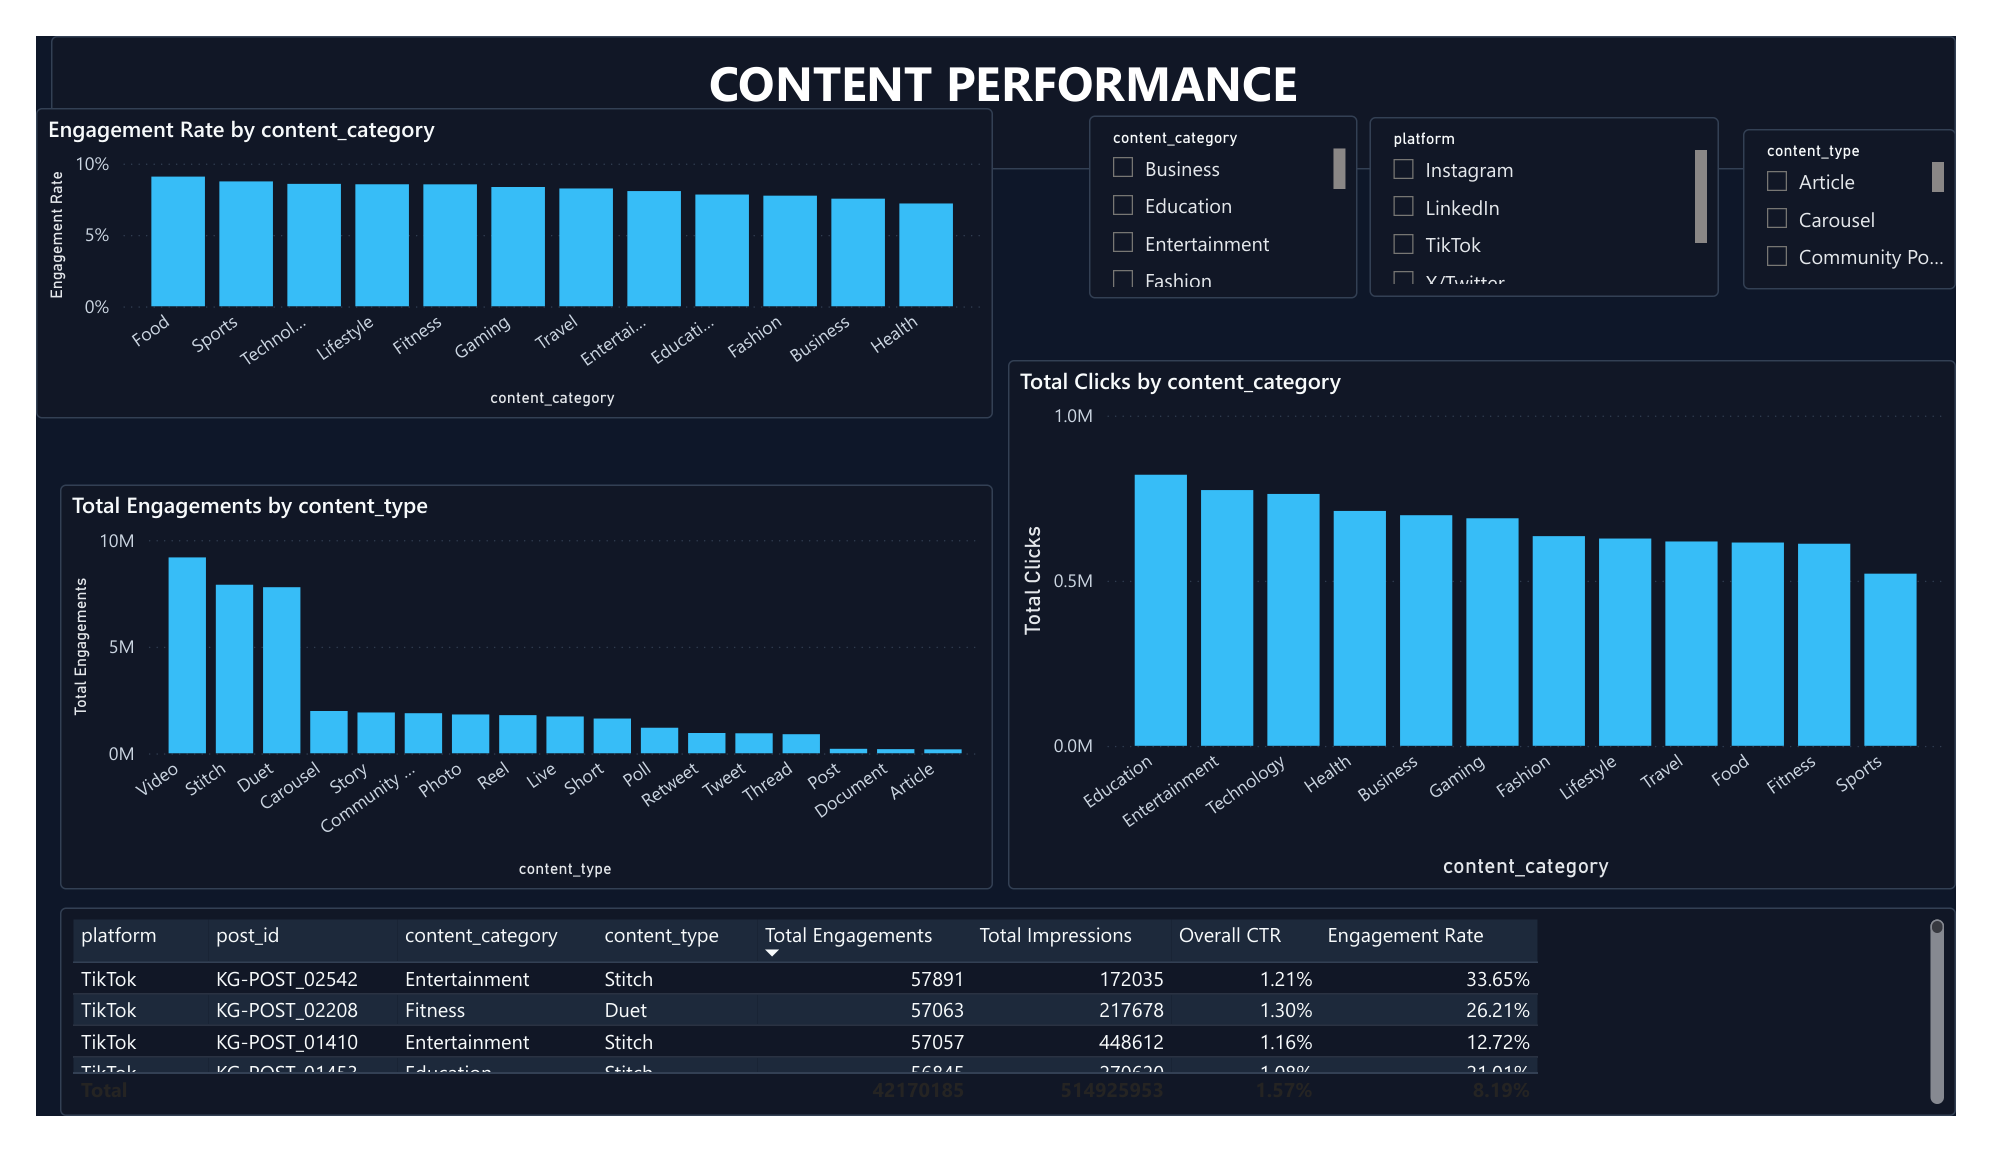

The page's visual inventory and layout, read from the dashboard file:
{"tool":"powerbi","page":{"name":"Content Performance","canvas":[1280,720],"ordinal":1},"visuals":[{"type":"textbox","box":[10,0,1270,88.9],"z":0},{"type":"slicer","fields":{"Values":["posts.platform"]},"box":[889.4,61.2,232.9,120],"z":1000},{"type":"slicer","fields":{"Values":["posts.content_category"]},"box":[702.4,52.9,178.8,122.4],"z":2000},{"type":"slicer","fields":{"Values":["posts.content_type"]},"box":[1122.4,67.1,142.4,108.2],"z":3000},{"type":"clusteredColumnChart","fields":{"Category":["posts.content_category"],"Y":["posts.Engagement Rate"]},"box":[0,48.2,637.6,207.1],"z":4000},{"type":"clusteredColumnChart","fields":{"Category":["posts.content_type"],"Y":["posts.Total Engagements"]},"box":[16.5,298.8,621.2,270.6],"z":5000},{"type":"clusteredColumnChart","fields":{"Category":["posts.content_category"],"Y":["posts.Total Clicks"]},"box":[656.5,181.2,623.5,270.6],"z":6000},{"type":"tableEx","fields":{"Values":["posts.platform","posts.post_id","posts.content_category","posts.content_type","posts.Total Engagements","posts.Total Impressions","posts.Overall CTR","posts.Engagement Rate"]},"box":[16.5,581.2,1263.5,138.8],"z":7000}]}

Visuals, with their boxes in screenshot pixels (x1, y1, x2, y2), scaled from the page's 1280x720 canvas onto the 1992x1152 screenshot:
textbox: (left=16, top=0, right=1991, bottom=142)
slicer - posts.platform: (left=1384, top=98, right=1747, bottom=290)
slicer - posts.content_category: (left=1093, top=85, right=1371, bottom=280)
slicer - posts.content_type: (left=1747, top=107, right=1968, bottom=280)
clusteredColumnChart - posts.content_category x posts.Engagement Rate: (left=0, top=77, right=992, bottom=408)
clusteredColumnChart - posts.content_type x posts.Total Engagements: (left=26, top=478, right=992, bottom=911)
clusteredColumnChart - posts.content_category x posts.Total Clicks: (left=1022, top=290, right=1991, bottom=723)
tableEx - posts.platform x posts.post_id: (left=26, top=930, right=1991, bottom=1151)
